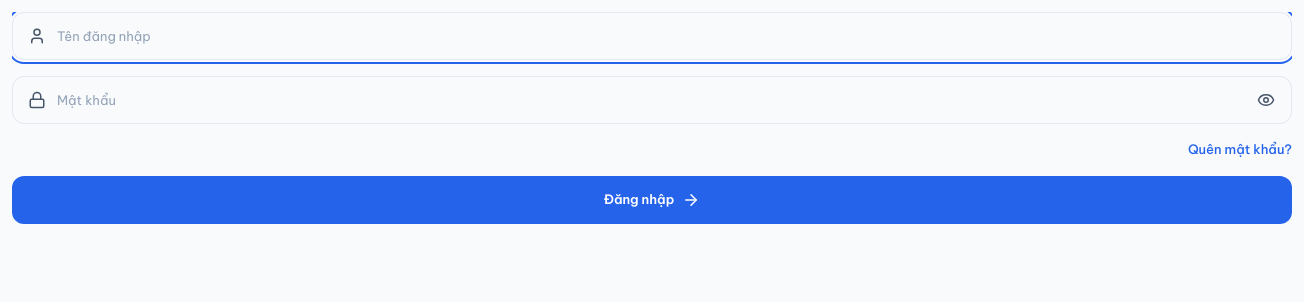
it: LoginForm › sai mật khẩu → thông báo trung lập, KHÔNG nói rõ sai cái nào
Type "nam" into the field labelled "Tên đăng nhập" at (652, 36), box x1=12 y1=12 x2=1292 y2=60
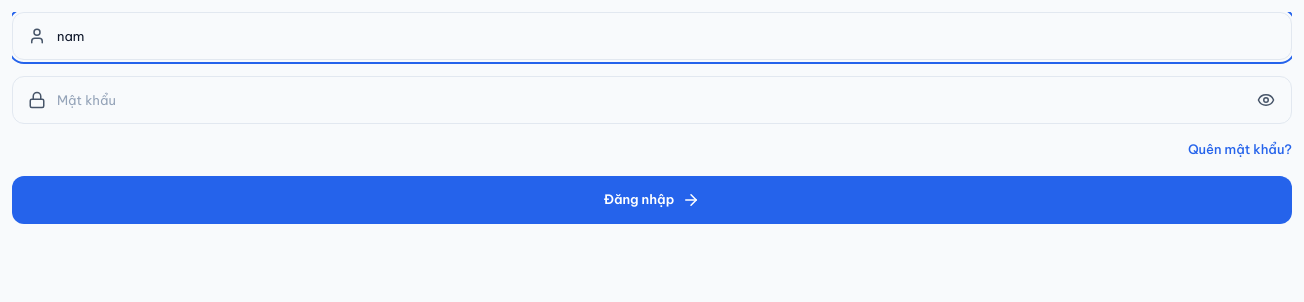
Type "Xuong2026" into the password field labelled "Mật khẩu" at (652, 100), box x1=12 y1=76 x2=1292 y2=124
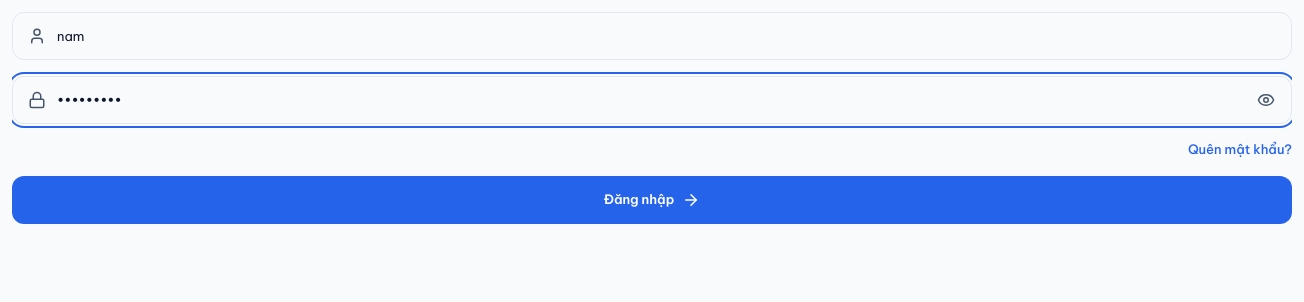
Click the button "Đăng nhập" at (652, 200), box x1=12 y1=176 x2=1292 y2=224
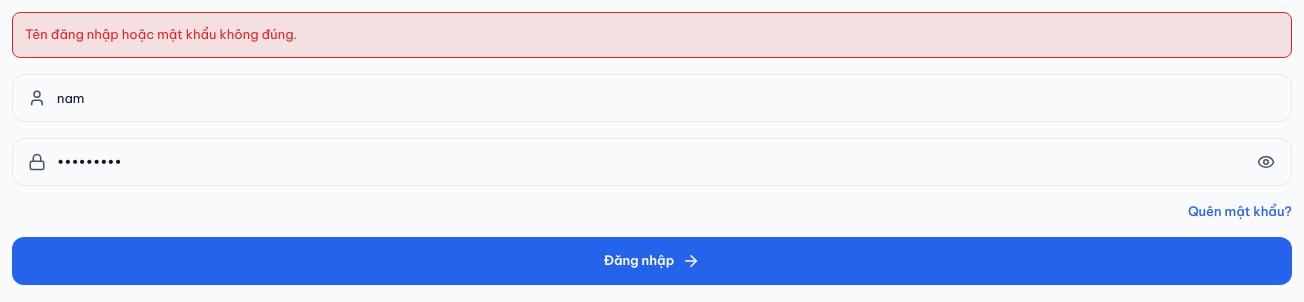
expect the message reads "Tên đăng nhập hoặc mật khẩu không đúng.": met, box x1=25 y1=26 x2=297 y2=42
